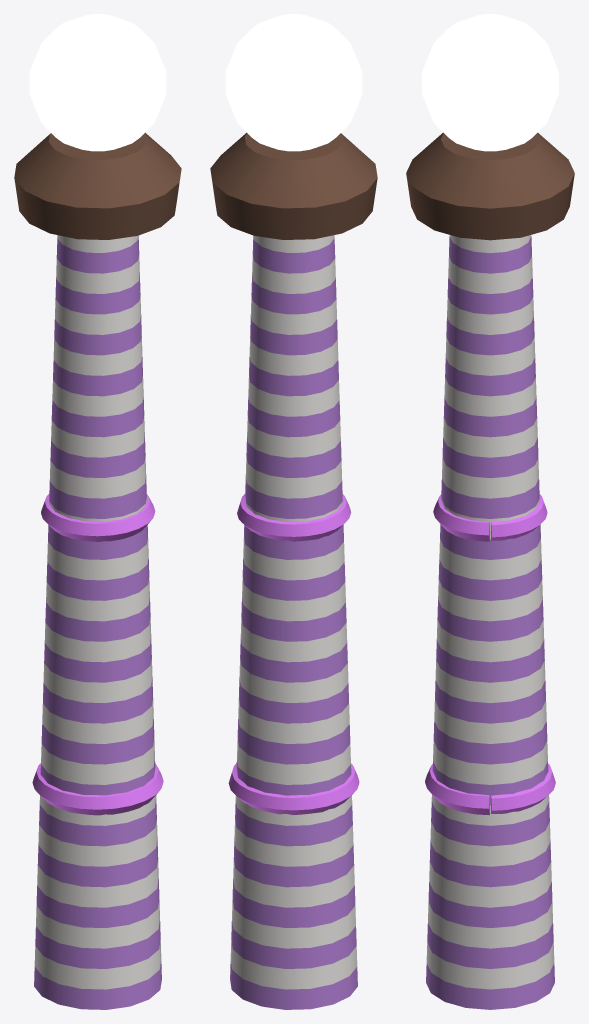
File: Landmark_ChocolateTank_Spire.fbx
The picture shows the model from 3 angles, left to right: view 1: azimuth 30°, elevation 25°; view 2: azimuth 150°, elevation 25°; view 3: azimuth 270°, elevation 25°; orthographic projection.
Parts seen in each view (by area): view 1: Landmark_ChocolateTank_Spire; view 2: Landmark_ChocolateTank_Spire; view 3: Landmark_ChocolateTank_Spire.
Part boxes in pixels (bbox=[...]): Landmark_ChocolateTank_Spire: bbox=[14, 14, 181, 1009]; Landmark_ChocolateTank_Spire: bbox=[210, 14, 377, 1009]; Landmark_ChocolateTank_Spire: bbox=[406, 14, 574, 1009].
Size of the model in its own units: 6.8 by 42.8 by 6.8.
